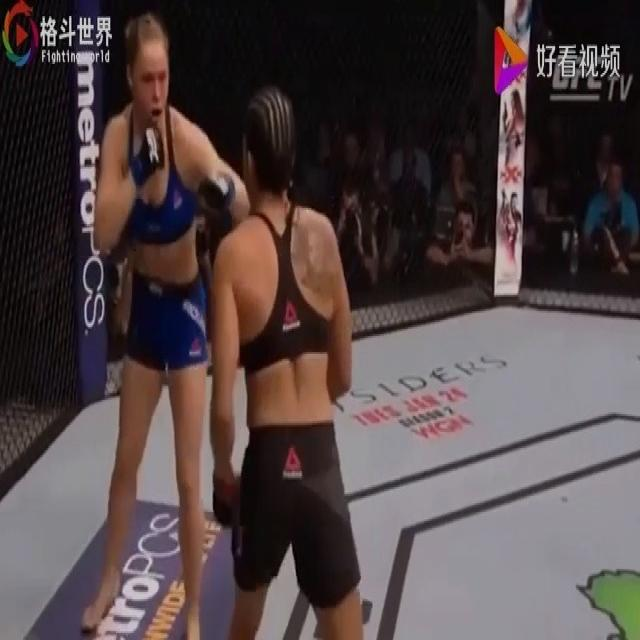fight: (82, 7, 366, 638)
